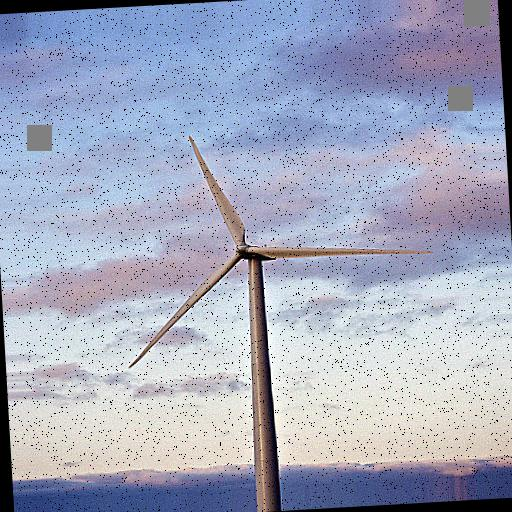wind turbine: (126, 134, 432, 512)
